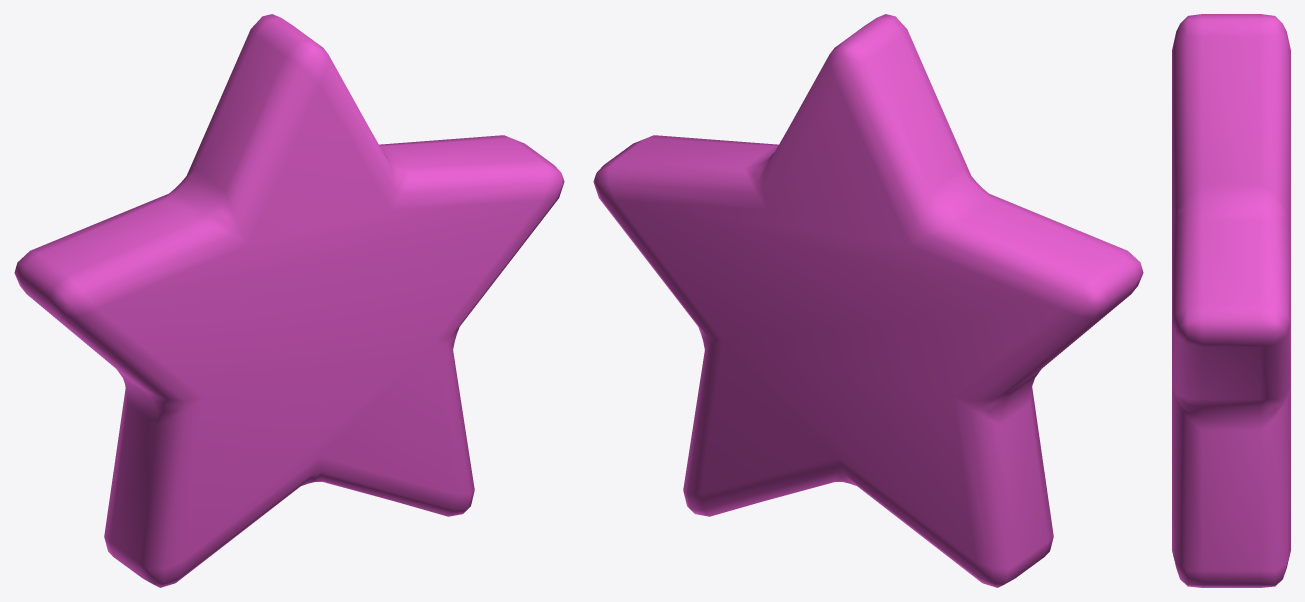
Rendered from star.glb.
The picture shows the model from 3 angles, left to right: view 1: azimuth 30°, elevation 25°; view 2: azimuth 150°, elevation 25°; view 3: azimuth 270°, elevation 25°; orthographic projection.
Visible parts, largest first — view 1: Circle; view 2: Circle; view 3: Circle.
Part boxes in pixels (bbox=[...]): Circle: bbox=[14, 14, 564, 587]; Circle: bbox=[593, 14, 1143, 587]; Circle: bbox=[1172, 14, 1290, 587].
Bounding box in the file's own units: 1.75 × 1.67 × 0.36.
